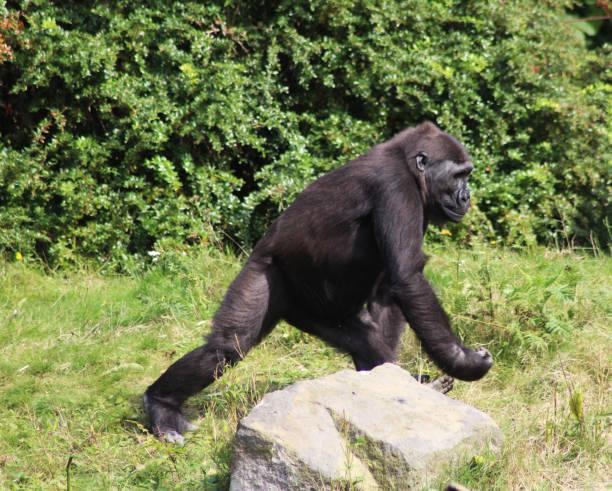gorille_Autres: (124, 95, 533, 410)
